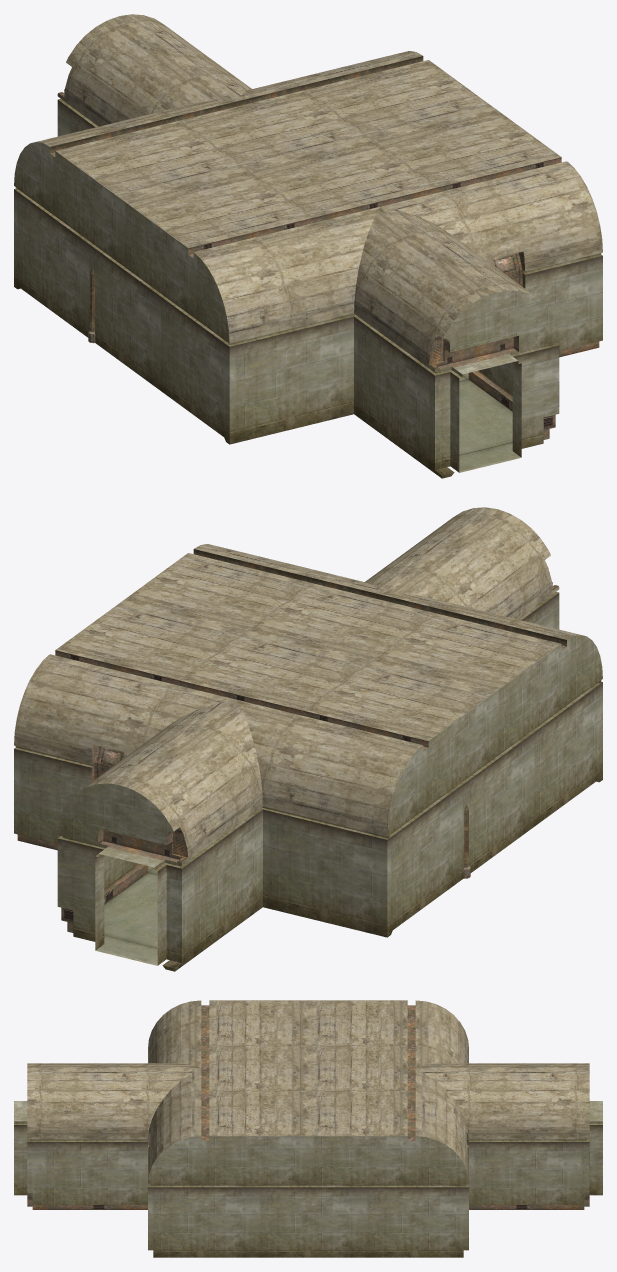
Rendered from poi_all_bunker_allum_mine_r2_smallroom2_mesh_r2.fbx.
3 renders of one model, top to bottom at view 1: azimuth 30°, elevation 25°; view 2: azimuth 150°, elevation 25°; view 3: azimuth 270°, elevation 25°, orthographic. The views are drawn at different scales.
Parts seen in each view (by area): view 1: mesh_node; view 2: mesh_node; view 3: mesh_node.
Boxes of the visible parts, x1=… form: mesh_node: x1=14, y1=14, x2=602, y2=478; mesh_node: x1=14, y1=507, x2=602, y2=971; mesh_node: x1=14, y1=1000, x2=602, y2=1257.
Bounding box in the file's own units: 12.12 × 5.1 × 22.
